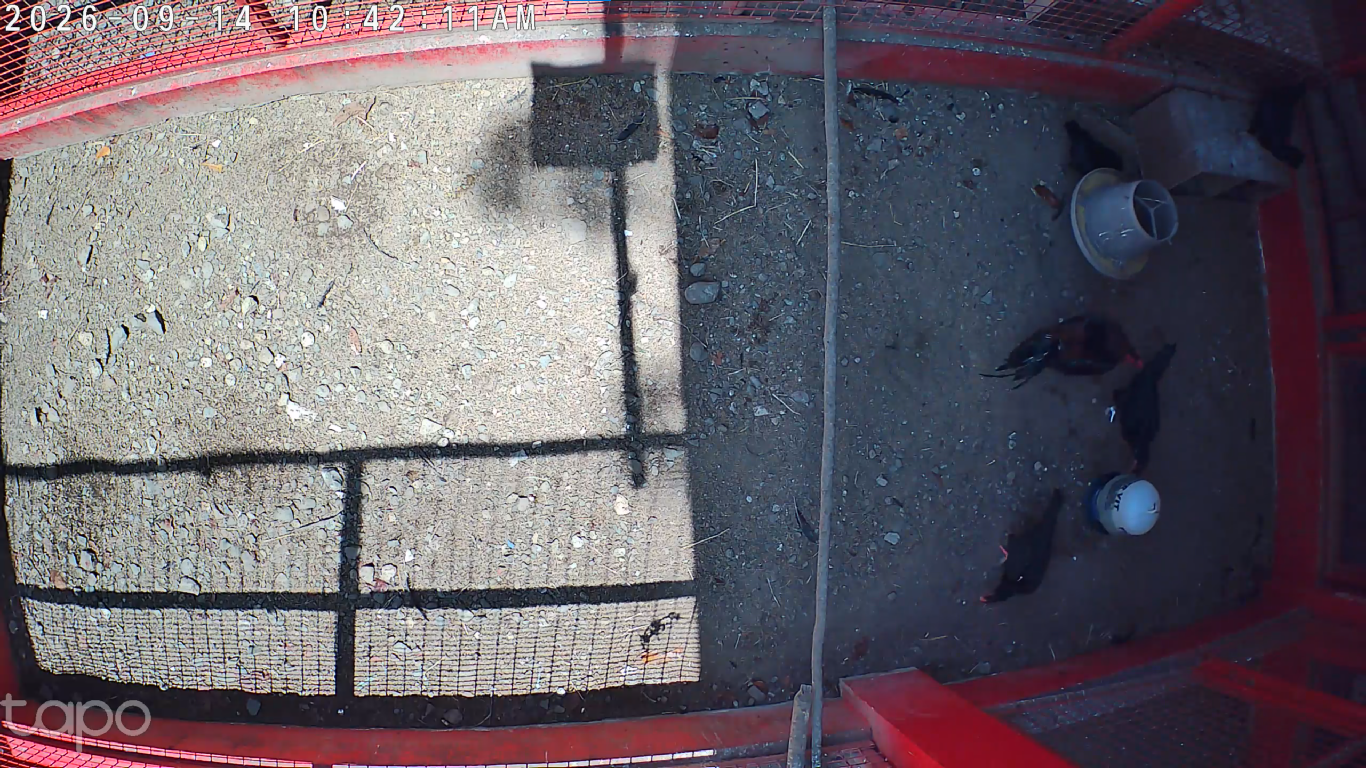Chicken: (974, 487, 1067, 608), (1104, 343, 1181, 478), (1061, 115, 1127, 181)
Drinker: (1085, 471, 1164, 541)
Feeder: (1067, 165, 1179, 279)
Rooster: (979, 311, 1148, 394)
